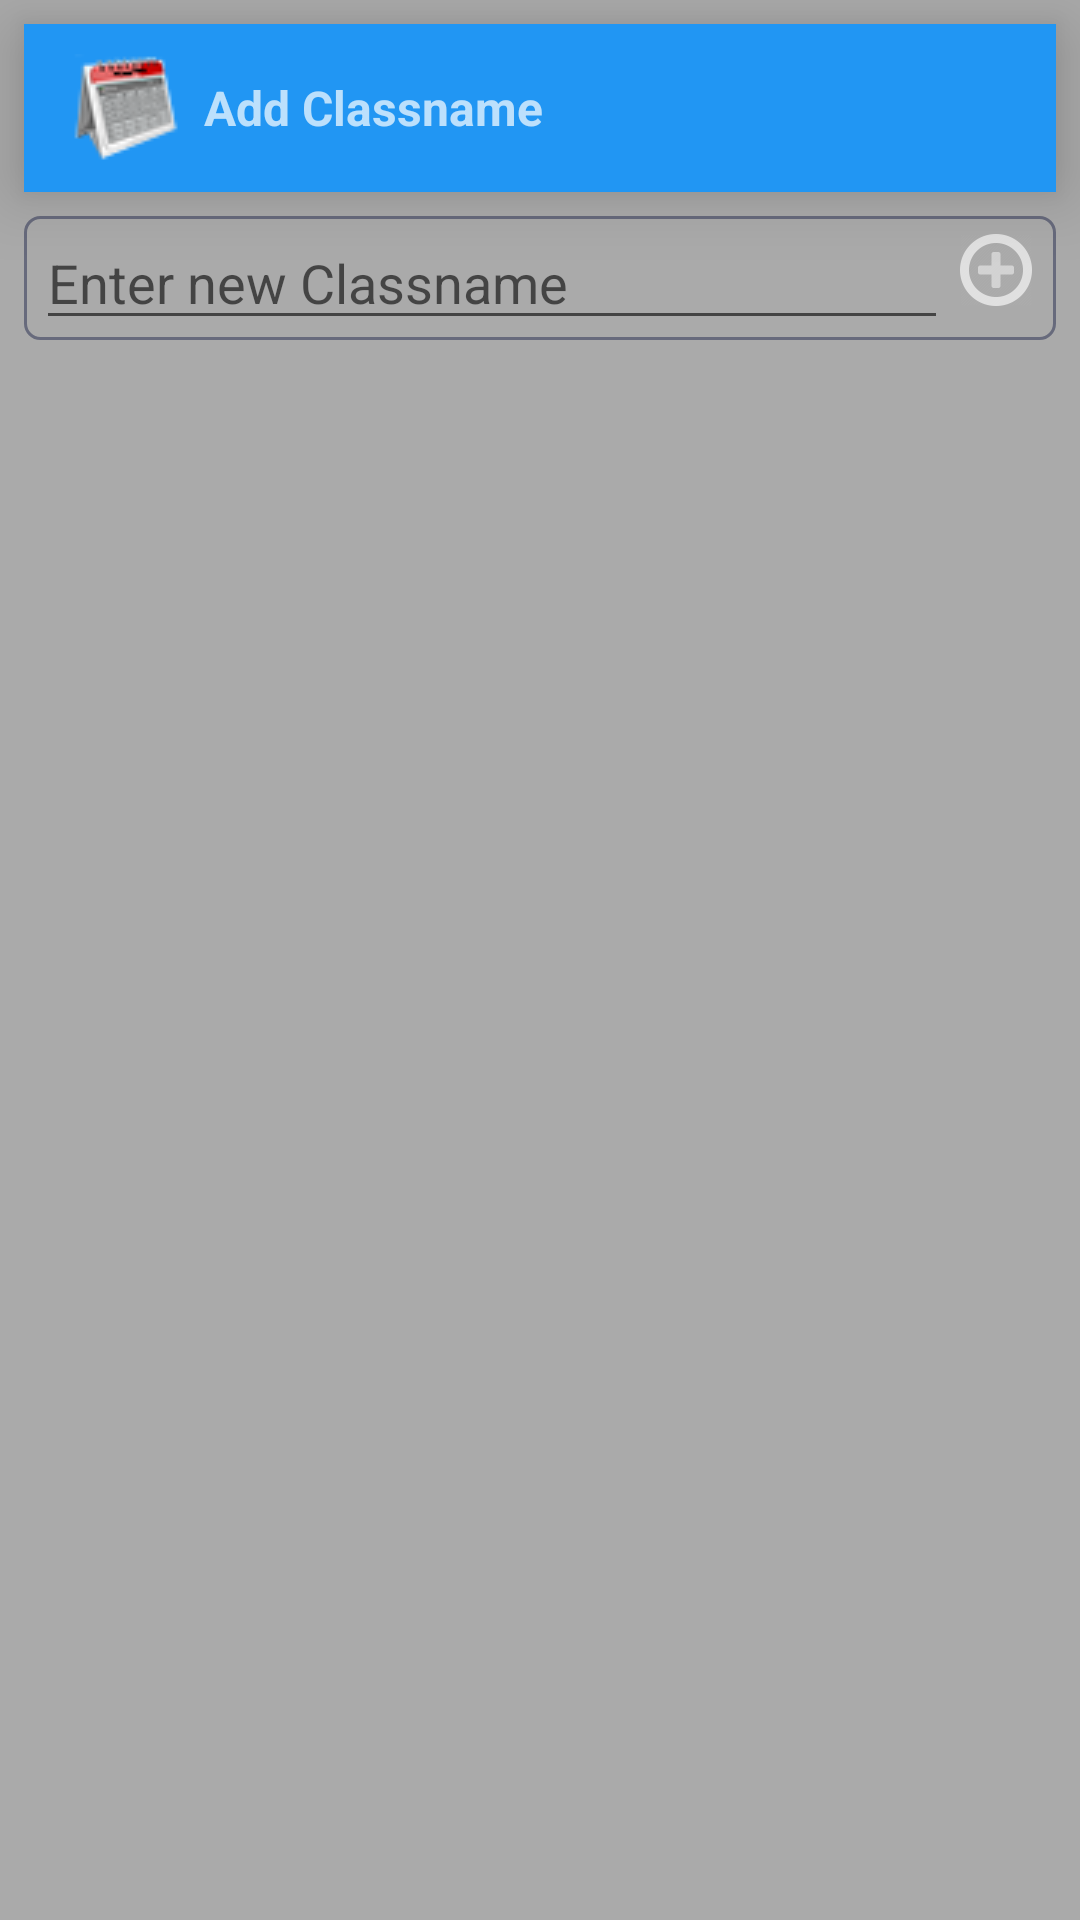

Where icons sit on this 1080 × 1920 app screen, as bbox=[x1, y1, x2, y2]:
adding class_name: bbox=[960, 234, 1032, 306]
